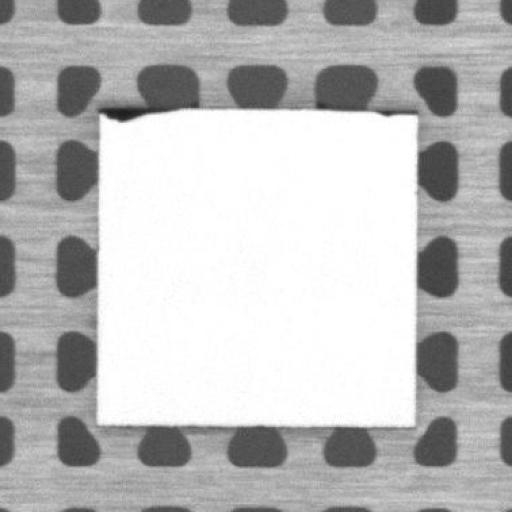DIE_BROKEN: (95, 101, 191, 123), (374, 101, 421, 119)
